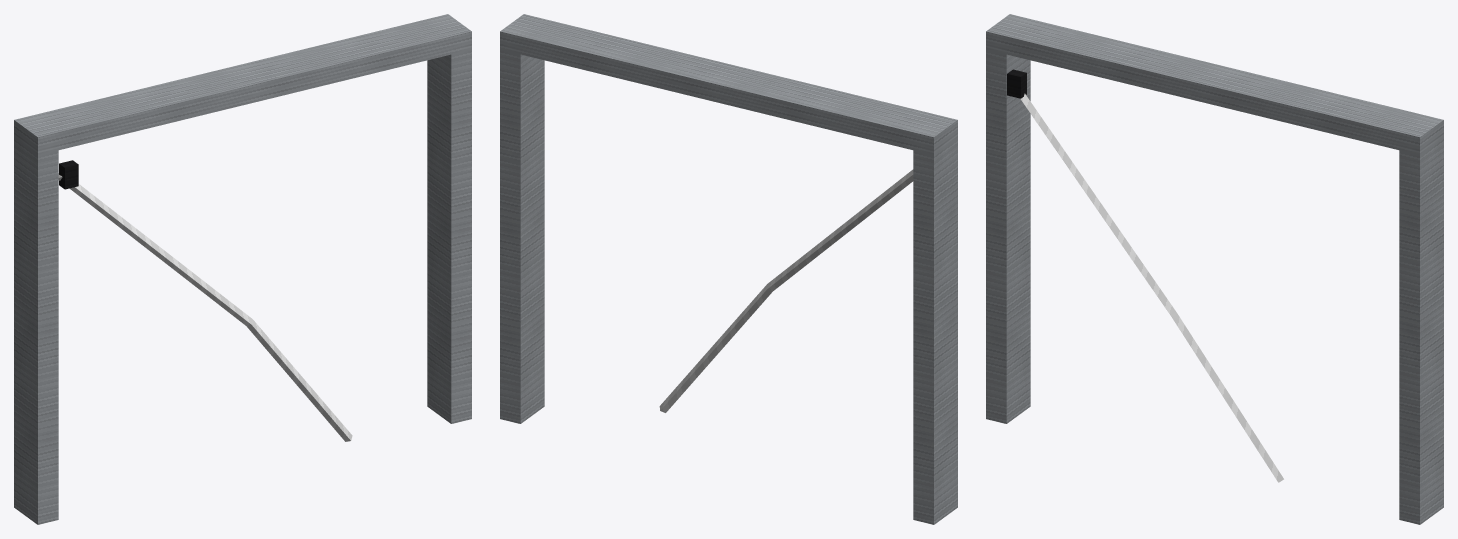
File: gaiola_fabrica.glb
3 views of the same model, side by side, from view 1: azimuth 30°, elevation 25°; view 2: azimuth 150°, elevation 25°; view 3: azimuth 330°, elevation 25° (orthographic).
Parts seen in each view (by area): view 1: gaiola_fabrica; view 2: gaiola_fabrica; view 3: gaiola_fabrica.
Boxes of the visible parts, x1,y1,x2,y2 form: gaiola_fabrica: [14, 14, 471, 524]; gaiola_fabrica: [500, 14, 957, 524]; gaiola_fabrica: [986, 14, 1443, 524].
Size of the model in its own units: 1.26 by 1.07 by 0.1919.
2 materials, 2 textured.
